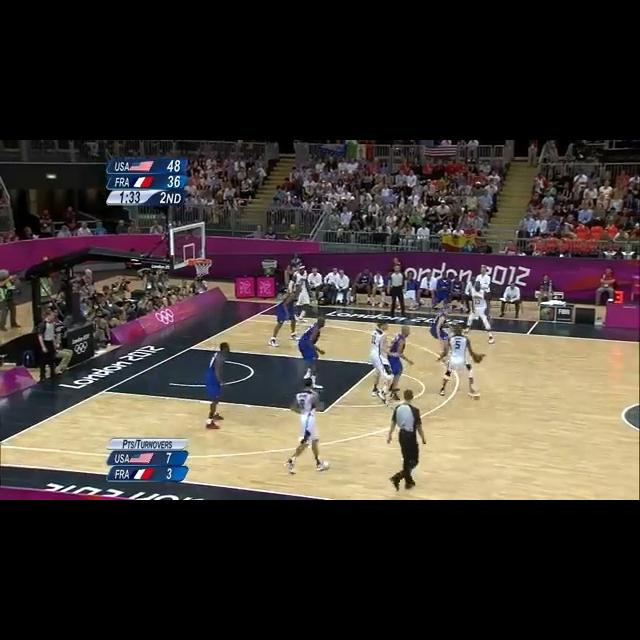basketball: (471, 353, 483, 363)
hoop: (193, 259, 213, 276)
